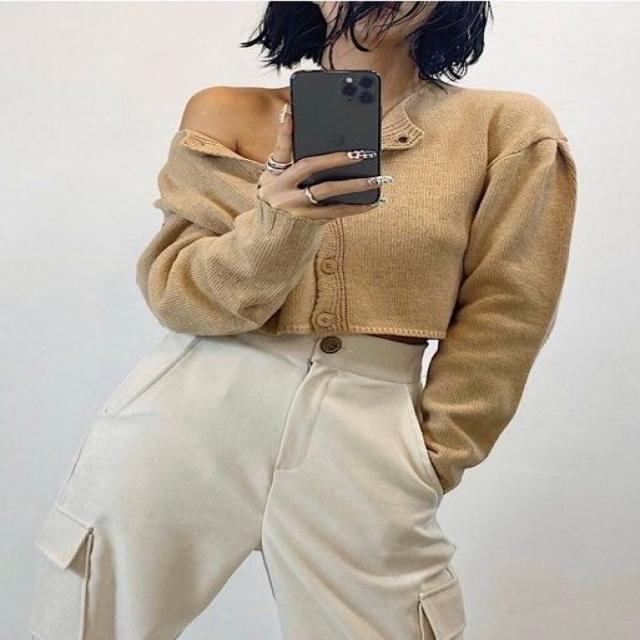phone: (290, 70, 381, 204)
